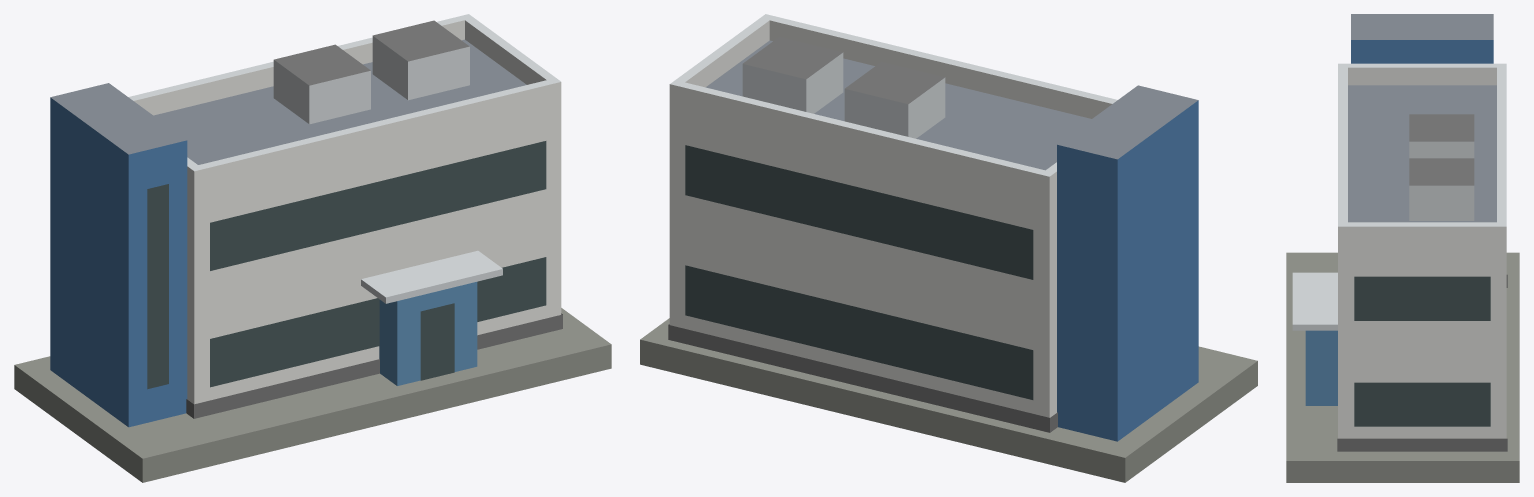
The model's file is mashup-admin-top-prebuilt.fbx.
3 renders of one model, left to right at view 1: azimuth 30°, elevation 25°; view 2: azimuth 150°, elevation 25°; view 3: azimuth 270°, elevation 25°, orthographic. The views are drawn at different scales.
Parts seen in each view (by area): view 1: a1074/0/mashup-admin-top-prebuilt; view 2: a1074/0/mashup-admin-top-prebuilt; view 3: a1074/0/mashup-admin-top-prebuilt.
Boxes of the visible parts, x1=… form: a1074/0/mashup-admin-top-prebuilt: x1=14, y1=14, x2=611, y2=482; a1074/0/mashup-admin-top-prebuilt: x1=640, y1=14, x2=1257, y2=482; a1074/0/mashup-admin-top-prebuilt: x1=1286, y1=14, x2=1519, y2=482.
Bounding box in the file's own units: 15.2 × 9.2 × 7.2.
